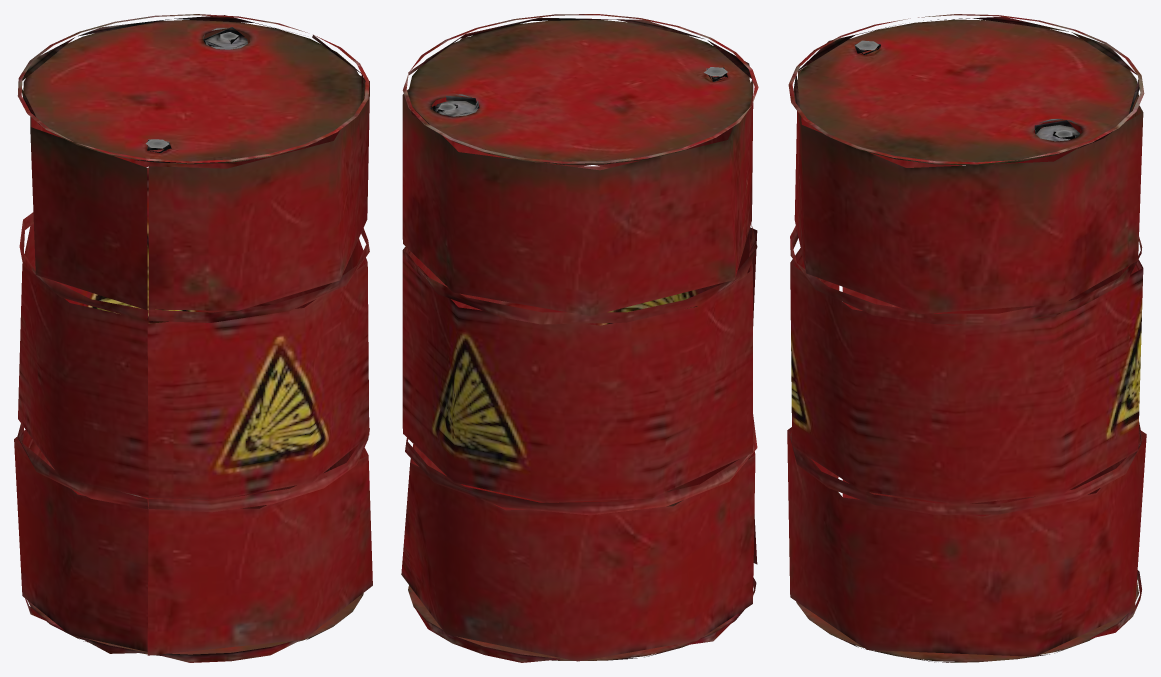
The model's file is barril.glb.
3 views of the same model, side by side, from view 1: azimuth 30°, elevation 25°; view 2: azimuth 150°, elevation 25°; view 3: azimuth 270°, elevation 25° (orthographic).
Parts seen in each view (by area): view 1: Malha; view 2: Malha; view 3: Malha.
Boxes of the visible parts, bbox=[...] form: Malha: bbox=[14, 14, 372, 662]; Malha: bbox=[401, 14, 758, 662]; Malha: bbox=[787, 14, 1146, 662].
Bounding box in the file's own units: 0.5653 × 0.8818 × 0.5662.
1 material, 1 textured.
